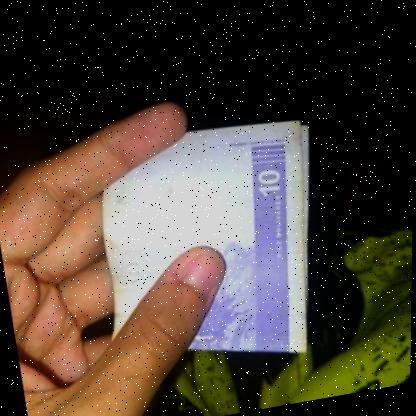ten-back-vef: (67, 106, 347, 388)
